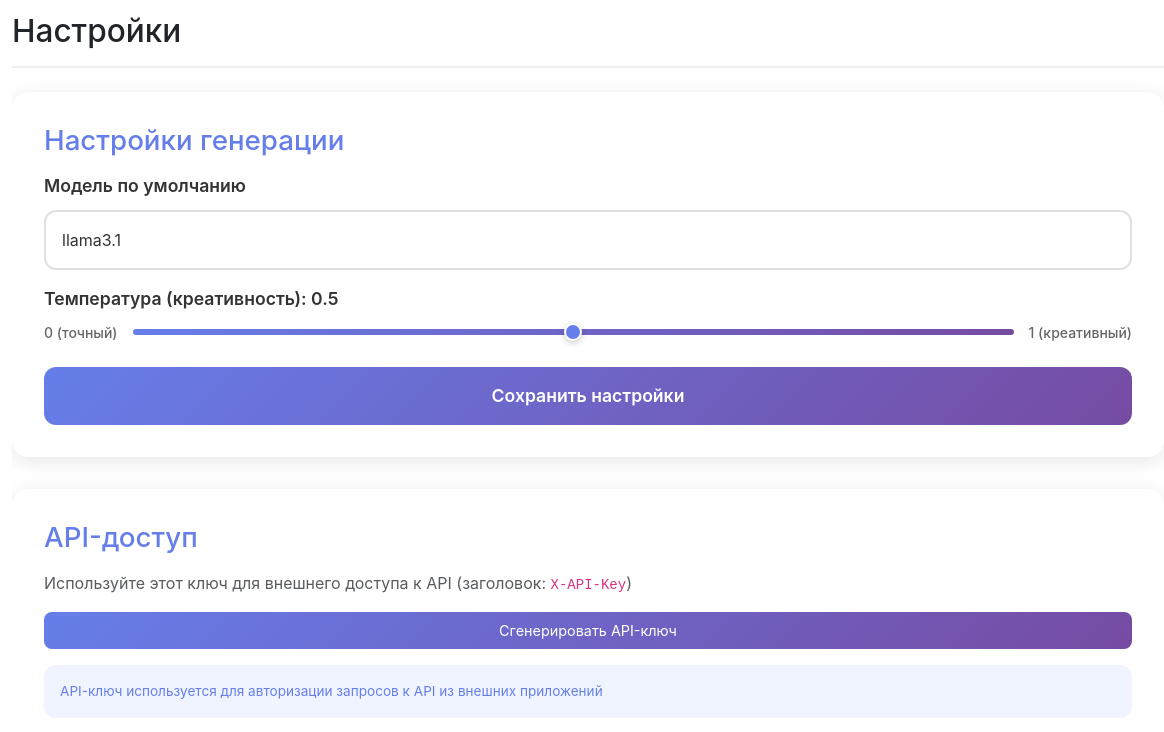
it: SettingsPage › should save settings
Step 1. Click the button "Сохранить настройки" → click(588, 396), box [44, 367, 1132, 425]
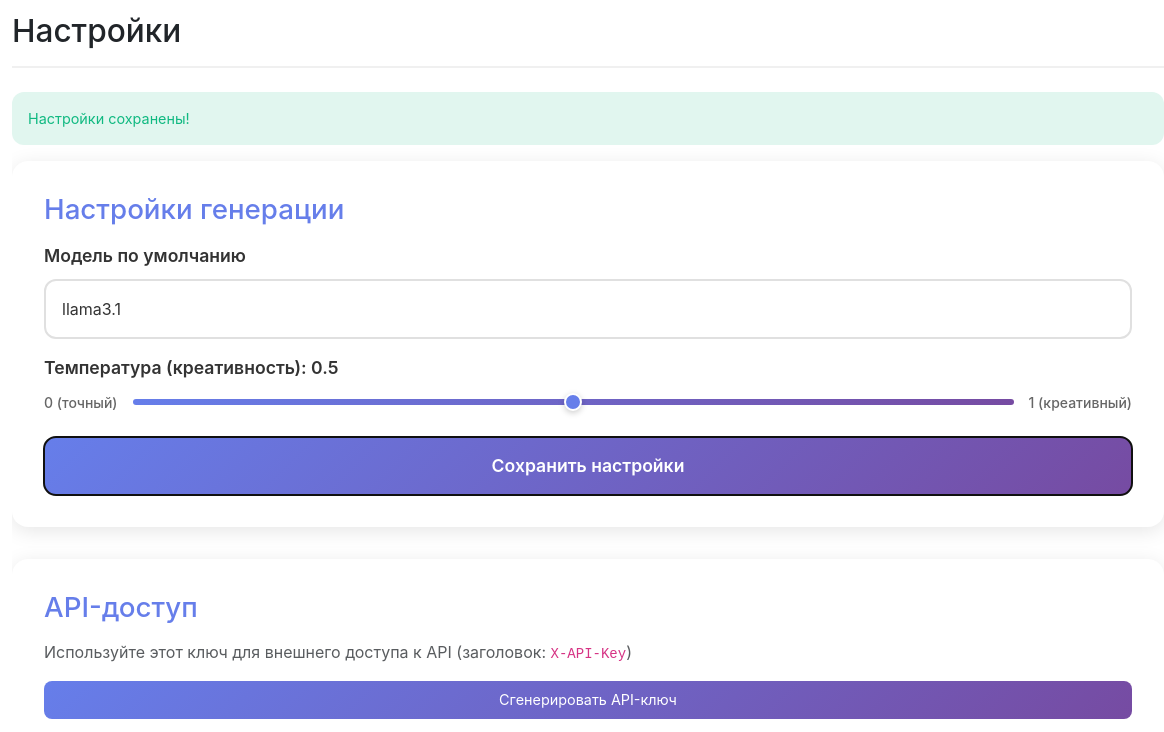
Expected: the text "Настройки сохранены!" is shown, [12, 92, 1163, 146]
